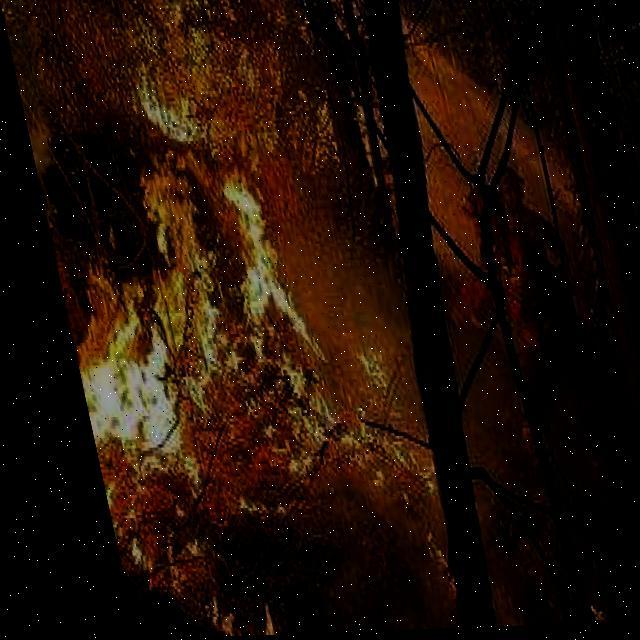Fire: (0, 0, 445, 639)
